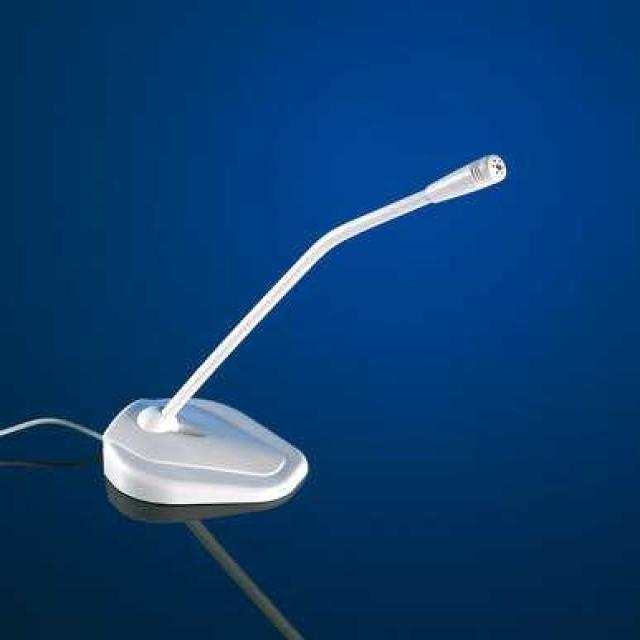microphone: (399, 151, 509, 216)
